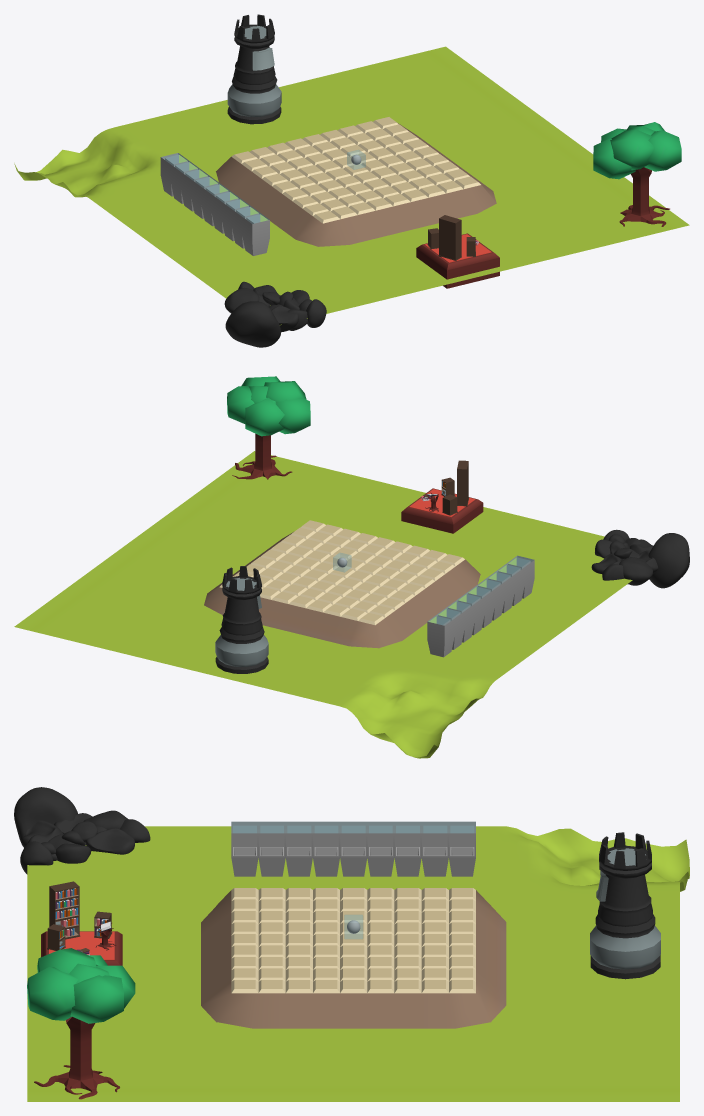
The model's file is Manawit FBX.fbx.
3 views of the same model, one above another, from view 1: azimuth 30°, elevation 25°; view 2: azimuth 150°, elevation 25°; view 3: azimuth 270°, elevation 25° (orthographic). The views are drawn at different scales.
Parts seen in each view (by area): view 1: pPlane1, pCube1, pCube19, pCylinder1, pCube3, pSolid4, pSolid21, polySurface33, pSolid23, pSolid20, pCube4; view 2: pPlane1, pCube1, pCube19, pCylinder1, pCube3, pSolid4, pSolid22, polySurface33, pSolid20, pSolid24, pSolid21, pSolid2; view 3: pPlane1, pCube1, pCube19, pCylinder1, polySurface33, pSolid23, pSolid24, pSolid4, pCube3, pSolid7, pSolid21, pCube4 (+5 smaller).
Boxes of the visible parts, <box> form: pPlane1: <box>14,46,689,325</box>; pCube1: <box>216,117,496,246</box>; pCube19: <box>160,153,269,255</box>; pCylinder1: <box>227,14,281,124</box>; pCube3: <box>416,233,499,288</box>; pSolid4: <box>225,301,280,347</box>; pSolid21: <box>610,129,654,170</box>; polySurface33: <box>619,167,669,226</box>; pSolid23: <box>644,130,681,171</box>; pSolid20: <box>593,138,635,179</box>; pCube4: <box>438,215,461,260</box>; pPlane1: <box>14,451,632,758</box>; pCube1: <box>204,520,480,648</box>; pCube19: <box>427,555,534,657</box>; pCylinder1: <box>215,566,268,673</box>; pCube3: <box>401,488,483,533</box>; pSolid4: <box>648,533,689,588</box>; pSolid22: <box>245,397,284,436</box>; polySurface33: <box>232,433,292,479</box>; pSolid20: <box>275,398,310,434</box>; pSolid24: <box>227,386,254,423</box>; pSolid21: <box>264,381,306,402</box>; pSolid2: <box>619,557,652,585</box>; pPlane1: <box>27,826,689,1101</box>; pCube1: <box>201,888,506,1028</box>; pCube19: <box>231,821,475,876</box>; pCylinder1: <box>590,832,660,979</box>; polySurface33: <box>34,1016,119,1099</box>; pSolid23: <box>27,967,78,1020</box>; pSolid24: <box>70,975,123,1023</box>; pSolid4: <box>14,787,77,845</box>; pCube3: <box>41,931,122,965</box>; pSolid7: <box>85,828,134,854</box>; pSolid21: <box>37,948,95,973</box>; pCube4: <box>49,881,80,939</box>.
Size of the model in its own units: 25.82 by 6.8 by 24.87.
Materials: 3 (1 with a texture image).
